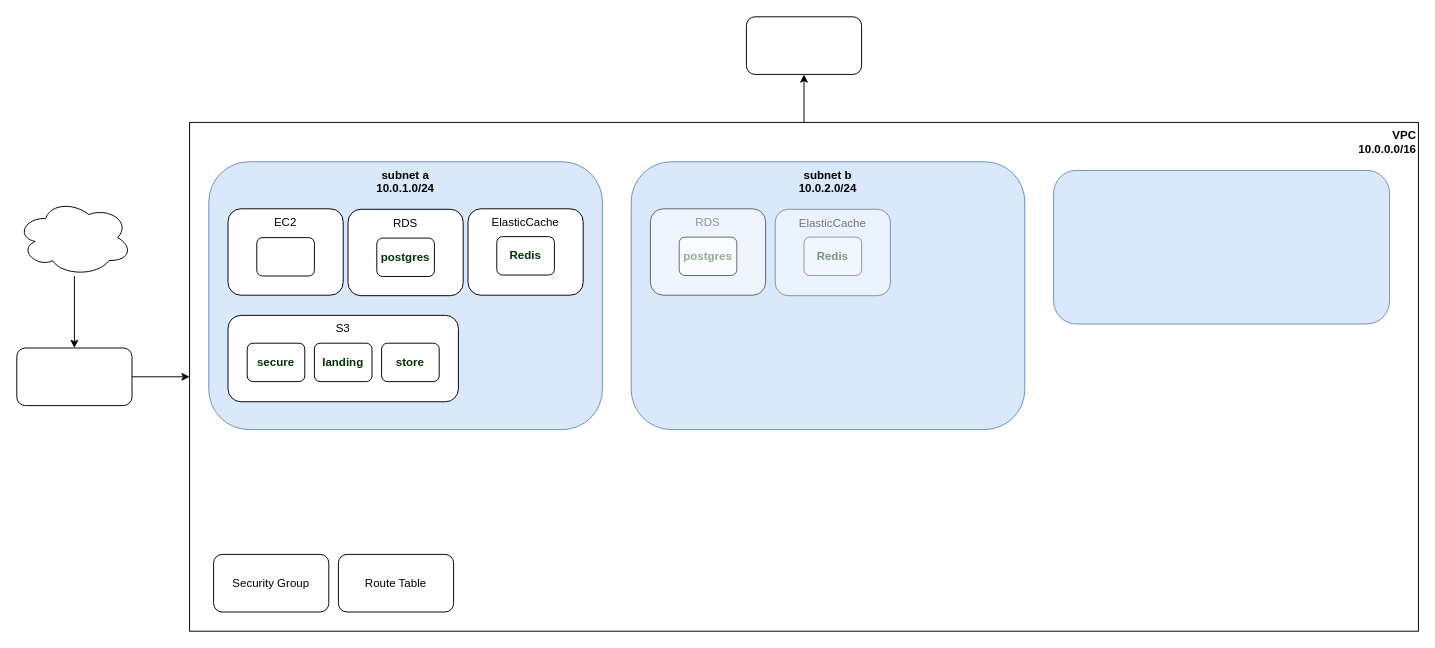
This 1435x648 diagram has some shape labels left out. The shapes that lost their labels are listed below. From the top down, each one's centre as x and y in pixels, then its label:
At (x=803, y=45): "Region us-east-2".
At (x=285, y=256): "api".
At (x=1221, y=246): "subnet b 10.0.3.0/24".
At (x=74, y=376): "Internet Gateway".
